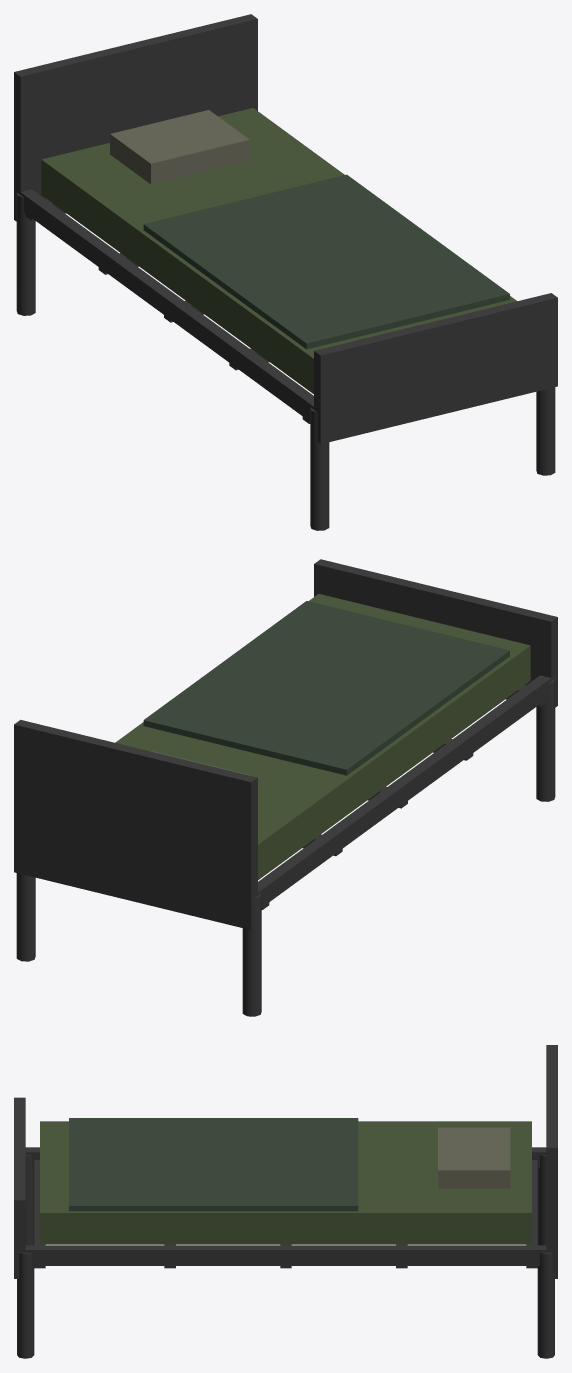
File: prison_bed.glb
The picture shows the model from 3 angles, top to bottom: view 1: azimuth 30°, elevation 25°; view 2: azimuth 150°, elevation 25°; view 3: azimuth 270°, elevation 25°; orthographic projection. The views are drawn at different scales.
Size of the model in its own units: 0.86 by 0.8 by 1.88.
